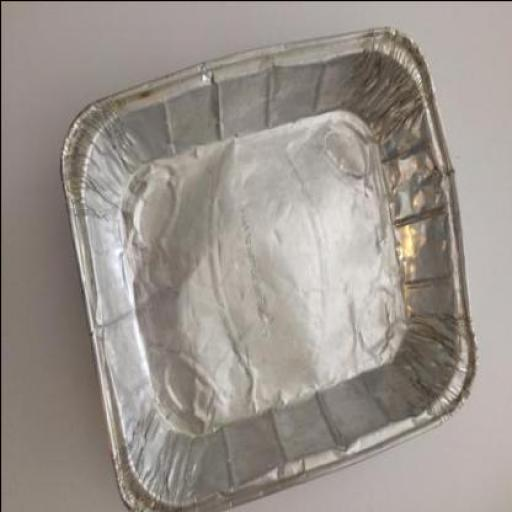metal: (59, 20, 479, 510)
